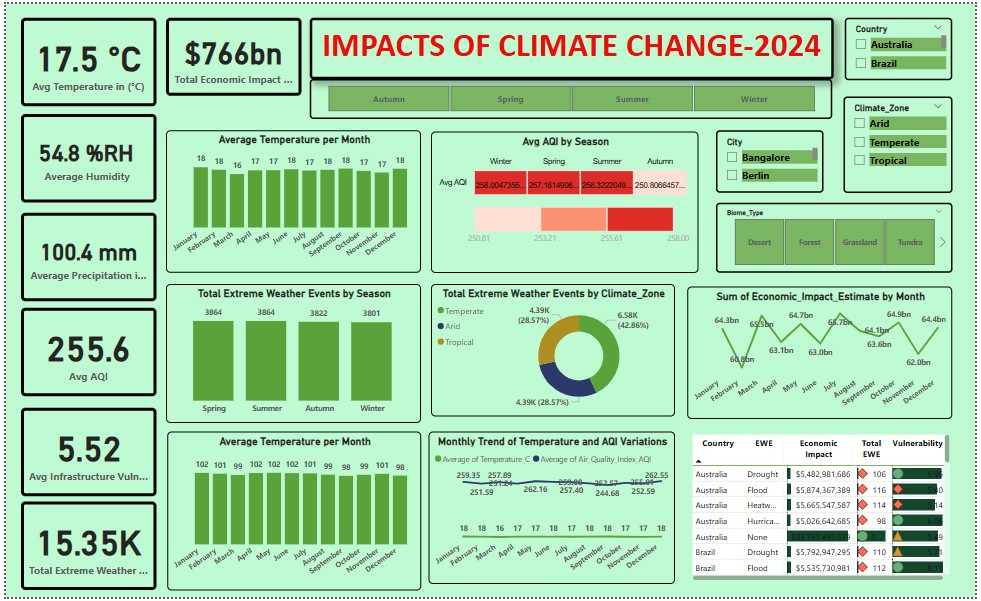

The dashboard page shown, as its layout file describes it:
{"tool":"powerbi","page":{"name":"IMPACTS OF CLIMATE CHANGE","canvas":[1550,950],"ordinal":0},"visuals":[{"type":"textbox","box":[485,21.7,838.3,98.3],"z":0},{"type":"columnChart","title":"Average Temperature per Month","fields":{"Category":["Climate_Change_Combined_Data.Month"],"Y":["Avg(Climate_Change_Combined_Data.Temperature_C)"]},"box":[256,202,408,228],"z":1000},{"type":"card","fields":{"Values":["Dax Measures 1.Avg Temperature in (°C)"]},"box":[23.3,21.7,216.7,141.7],"z":2000},{"type":"card","fields":{"Values":["Dax Measures 1.Average Humidity in %RH"]},"box":[23.3,175,216.7,141.7],"z":3000},{"type":"card","fields":{"Values":["Dax Measures 1.Average Precipitation in (mm)"]},"box":[23.3,333.3,216.7,141.7],"z":4000},{"type":"card","fields":{"Values":["DAX Measures.Avg AQI"]},"box":[23.3,486.7,216.7,141.7],"z":5000},{"type":"card","fields":{"Values":["DAX Measures.Avg Infrastructure Vulnerability"]},"box":[23.3,645,216.7,141.7],"z":6000},{"type":"card","fields":{"Values":["DAX Measures.Total Extreme Weather Events"]},"box":[23.3,795,216.7,141.7],"z":7000},{"type":"card","fields":{"Values":["DAX Measures.Total Economic Impact ($)"]},"box":[256.7,21.7,216.7,125],"z":8000},{"type":"slicer","fields":{"Values":["Climate_Change_Combined_Data.Season"]},"box":[486,120,836,64],"z":9000},{"type":"lineChart","title":"Monthly Trend of Temperature and AQI Variations","fields":{"Y":["Avg(Climate_Change_Combined_Data.Temperature_C)","Avg(Climate_Change_Combined_Data.Air_Quality_Index_AQI)"],"Category":["Climate_Change_Combined_Data.Month"]},"box":[676,684,394,244],"z":10000},{"type":"clusteredColumnChart","title":"Average Temperature per Month","fields":{"Category":["Climate_Change_Combined_Data.Month"],"Y":["Avg(Climate_Change_Combined_Data.Precipitation_mm)"]},"box":[258,684,406,254],"z":11000},{"type":"clusteredColumnChart","fields":{"Y":["DAX Measures.Total Extreme Weather Events"],"Category":["Climate_Change_Combined_Data.Season"]},"box":[256,448,408,222],"z":12000},{"type":"donutChart","fields":{"Category":["Climate_Change_Combined_Data.Climate_Zone"],"Y":["DAX Measures.Total Extreme Weather Events"]},"box":[680,448,390,212],"z":13000},{"type":"lineChart","fields":{"Y":["Sum(Climate_Change_Combined_Data.Economic_Impact_Estimate)"],"Category":["Climate_Change_Combined_Data.Month"]},"box":[1090,452,424,212],"z":14000},{"type":"slicer","fields":{"Values":["Climate_Change_Combined_Data.Country"]},"box":[1342,22,172,100],"z":16000},{"type":"slicer","fields":{"Values":["Climate_Change_Combined_Data.City"]},"box":[1136,202,172,100],"z":17000},{"type":"slicer","fields":{"Values":["Climate_Change_Combined_Data.Climate_Zone"]},"box":[1340,148,174,154],"z":18000},{"type":"slicer","fields":{"Values":["Climate_Change_Combined_Data.Biome_Type"]},"box":[1136,318,378,112],"z":19000},{"type":"TableHeatMap1443716069308","fields":{"Category":["Climate_Change_Combined_Data.Season"],"Y":["DAX Measures.Avg AQI"]},"box":[680,204,428,226],"z":19001},{"type":"tableEx","fields":{"Values":["Climate_Change_Combined_Data.Country","Climate_Change_Combined_Data.Extreme_Weather_Events","DAX Measures.Total Economic Impact ($)","DAX Measures.Total Extreme Weather Events","Avg(Climate_Change_Combined_Data.Infrastructure_Vulnerability_Score)"]},"box":[1091.2,683.8,423.8,243.8],"z":19002}]}

Visuals, with their boxes in screenshot pixels (x1, y1, x2, y2), scaled from the page's 1550x950 canvas onto the 981x601 screenshot:
textbox: pyautogui.locateOnScreen(307, 14, 838, 76)
"Average Temperature per Month" columnChart: pyautogui.locateOnScreen(162, 128, 420, 272)
card - Dax Measures 1.Avg Temperature in (°C): pyautogui.locateOnScreen(15, 14, 152, 103)
card - Dax Measures 1.Average Humidity in %RH: pyautogui.locateOnScreen(15, 111, 152, 200)
card - Dax Measures 1.Average Precipitation in (mm): pyautogui.locateOnScreen(15, 211, 152, 300)
card - DAX Measures.Avg AQI: pyautogui.locateOnScreen(15, 308, 152, 398)
card - DAX Measures.Avg Infrastructure Vulnerability: pyautogui.locateOnScreen(15, 408, 152, 498)
card - DAX Measures.Total Extreme Weather Events: pyautogui.locateOnScreen(15, 503, 152, 593)
card - DAX Measures.Total Economic Impact ($): pyautogui.locateOnScreen(162, 14, 300, 93)
slicer - Climate_Change_Combined_Data.Season: pyautogui.locateOnScreen(308, 76, 837, 116)
"Monthly Trend of Temperature and AQI Variations" lineChart: pyautogui.locateOnScreen(428, 433, 677, 587)
"Average Temperature per Month" clusteredColumnChart: pyautogui.locateOnScreen(163, 433, 420, 593)
clusteredColumnChart - DAX Measures.Total Extreme Weather Events x Climate_Change_Combined_Data.Season: pyautogui.locateOnScreen(162, 283, 420, 424)
donutChart - Climate_Change_Combined_Data.Climate_Zone x DAX Measures.Total Extreme Weather Events: pyautogui.locateOnScreen(430, 283, 677, 418)
lineChart - Sum(Climate_Change_Combined_Data.Economic_Impact_Estimate) x Climate_Change_Combined_Data.Month: pyautogui.locateOnScreen(690, 286, 958, 420)
slicer - Climate_Change_Combined_Data.Country: pyautogui.locateOnScreen(849, 14, 958, 77)
slicer - Climate_Change_Combined_Data.City: pyautogui.locateOnScreen(719, 128, 828, 191)
slicer - Climate_Change_Combined_Data.Climate_Zone: pyautogui.locateOnScreen(848, 94, 958, 191)
slicer - Climate_Change_Combined_Data.Biome_Type: pyautogui.locateOnScreen(719, 201, 958, 272)
TableHeatMap1443716069308 - Climate_Change_Combined_Data.Season x DAX Measures.Avg AQI: pyautogui.locateOnScreen(430, 129, 701, 272)
tableEx - Climate_Change_Combined_Data.Country x Climate_Change_Combined_Data.Extreme_Weather_Events: pyautogui.locateOnScreen(691, 433, 959, 587)
